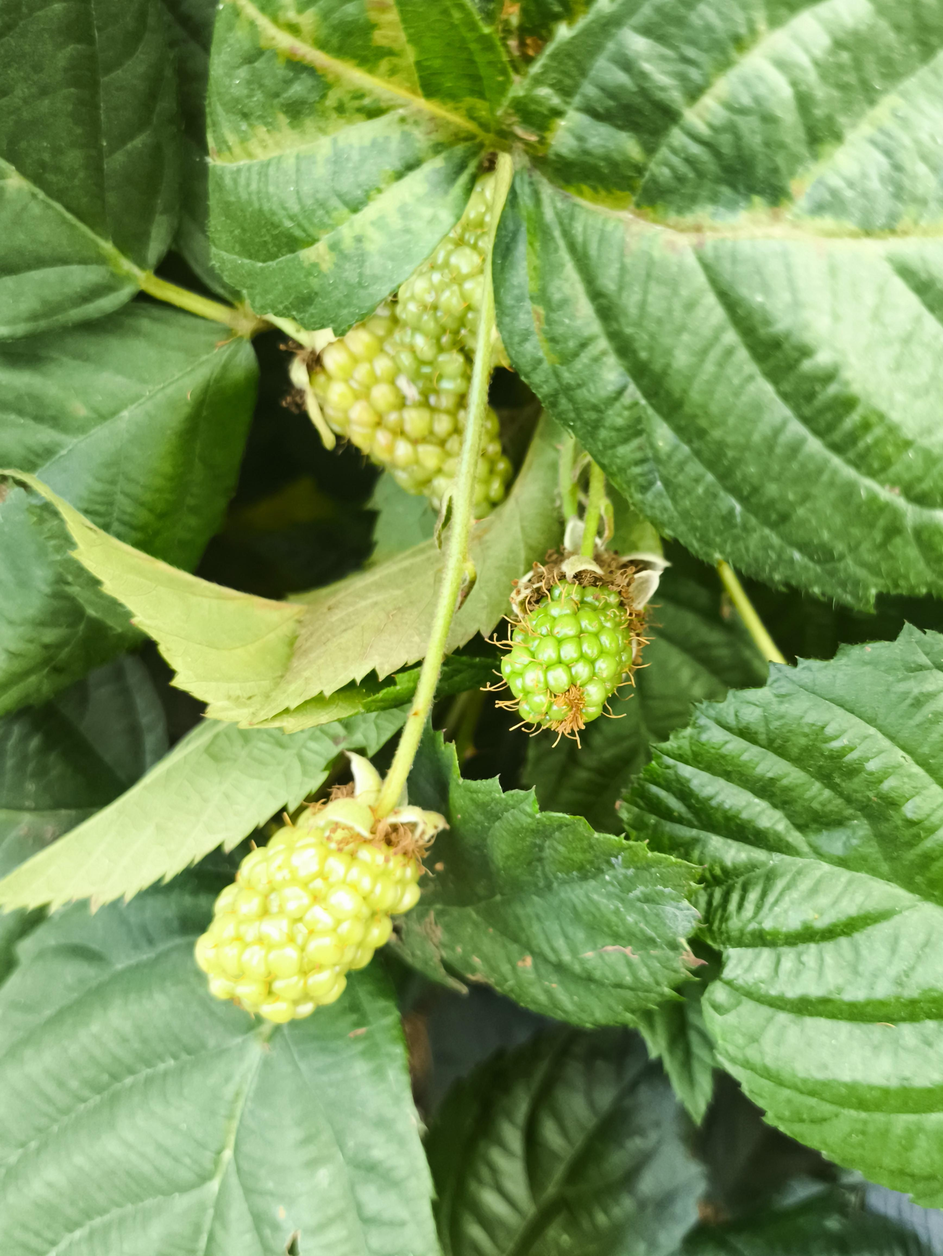verde: (195, 755, 444, 1022), (303, 310, 508, 515), (502, 558, 640, 742)
